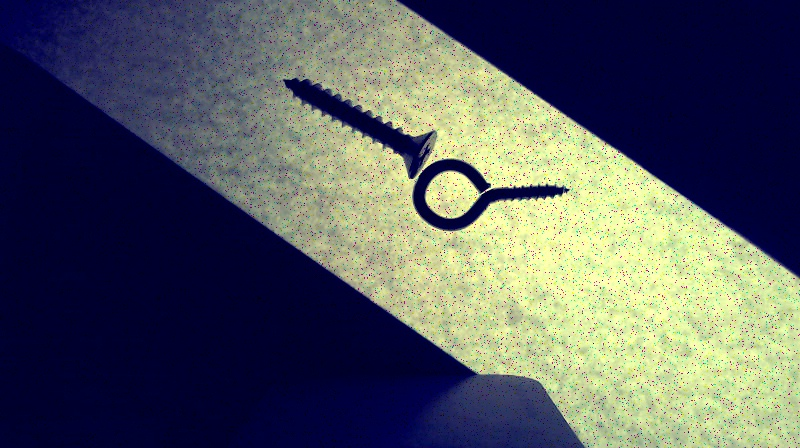O001: (411, 157, 572, 232)
S001: (279, 76, 438, 179)
